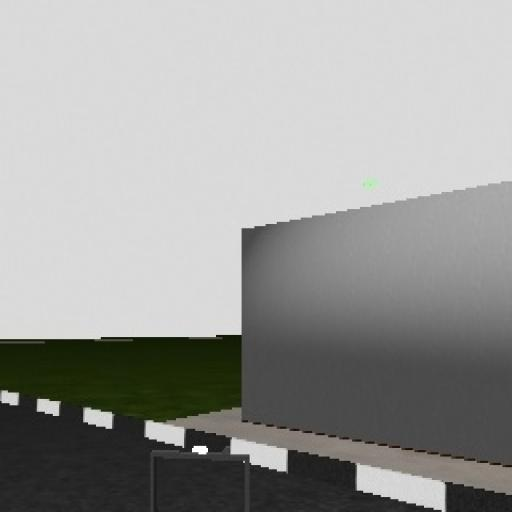huskya200: (130, 433, 270, 512)
